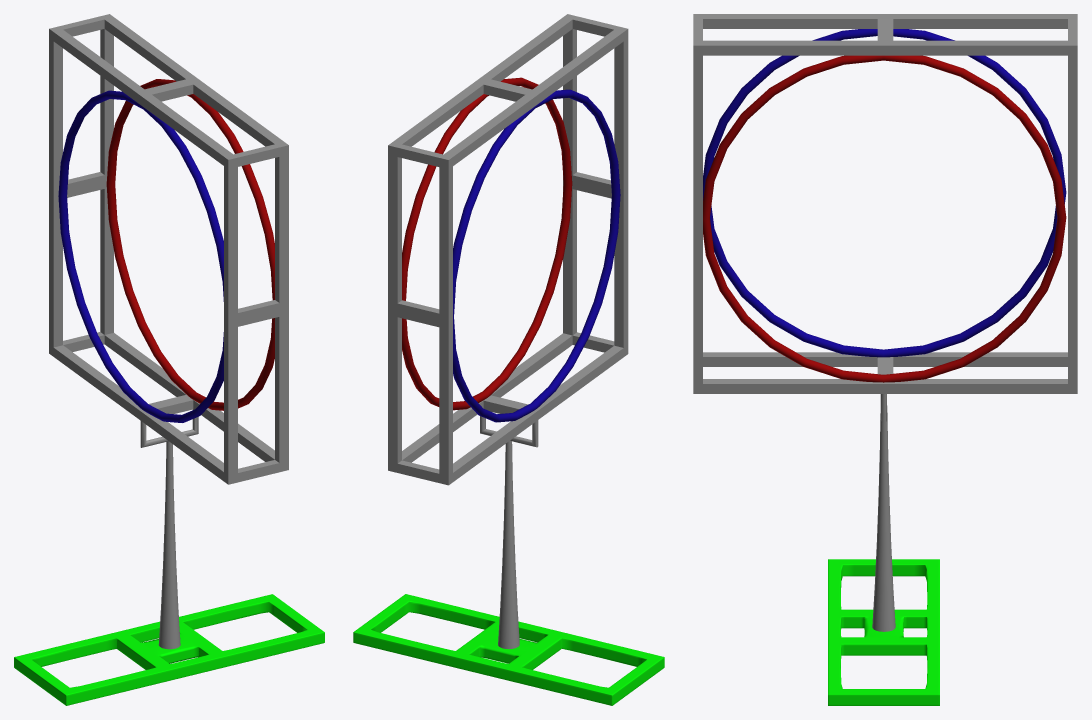
The model's file is 障碍物.FBX.
The picture shows the model from 3 angles, left to right: view 1: azimuth 30°, elevation 25°; view 2: azimuth 150°, elevation 25°; view 3: azimuth 270°, elevation 25°; orthographic projection. The views are drawn at different scales.
Parts seen in each view (by area): view 1: dizuo; view 2: dizuo; view 3: dizuo.
Part boxes in pixels (x1,y1,x2,y2): dizuo: [14, 14, 324, 705]; dizuo: [353, 14, 664, 705]; dizuo: [693, 14, 1077, 705].
Size of the model in its own units: 100 by 210 by 120.
